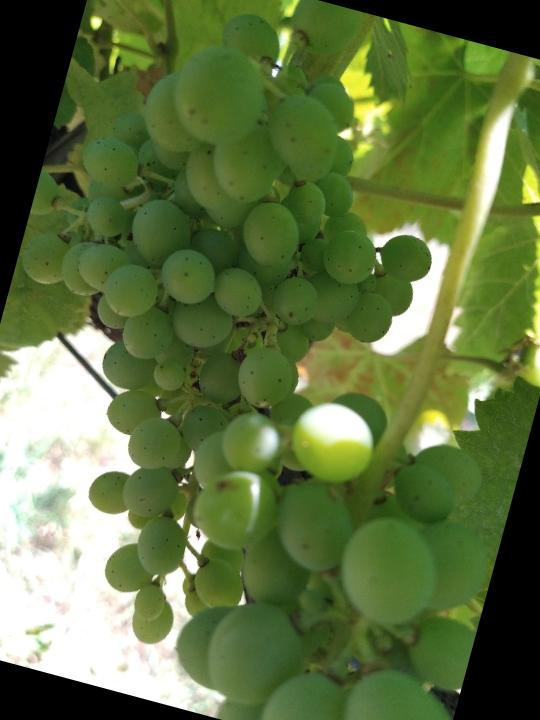grape: (0, 0, 484, 693)
